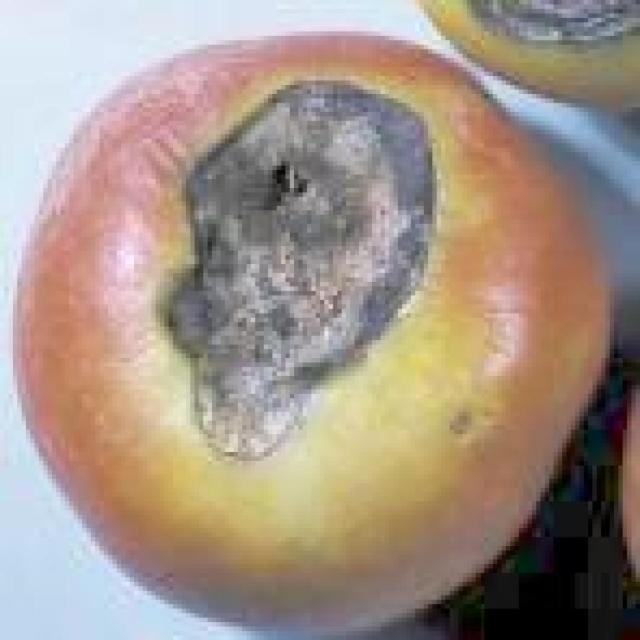Blossom End Rot Fruit: (121, 18, 365, 257)
